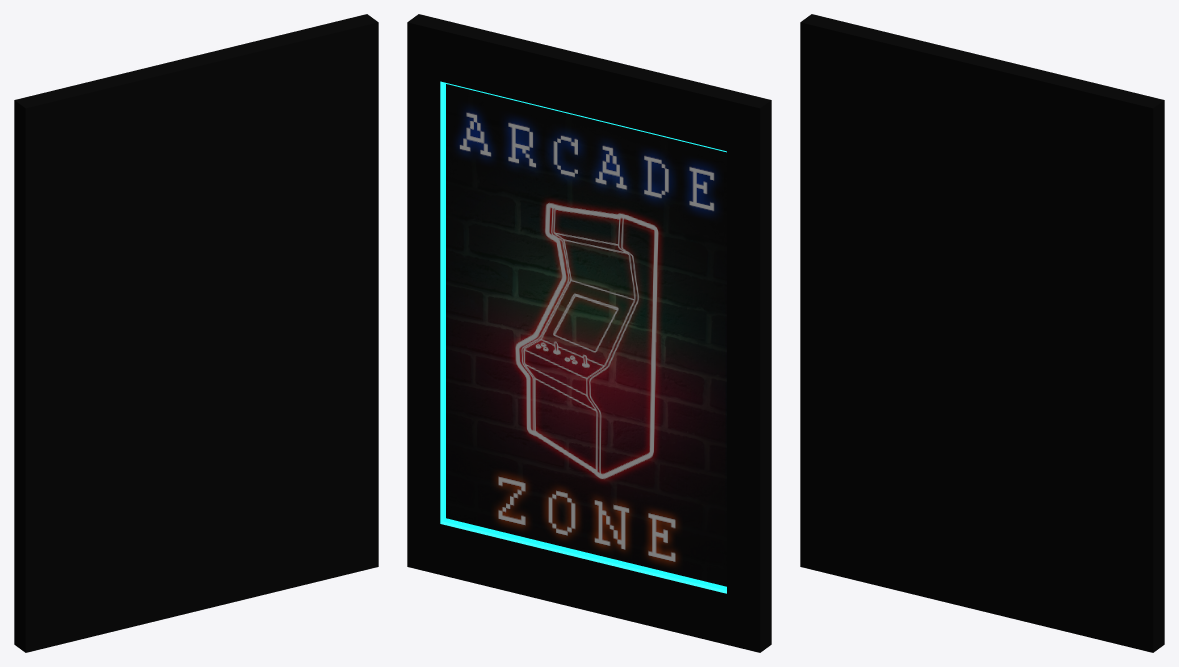
File: poster4e.fbx
3 renders of one model, left to right at view 1: azimuth 30°, elevation 25°; view 2: azimuth 150°, elevation 25°; view 3: azimuth 330°, elevation 25°, orthographic.
Visible parts, largest first — view 1: Plane.003; view 2: Plane.003; view 3: Plane.003.
Part boxes in pixels (left/top/right/bottom): Plane.003: left=14, top=14, right=378, bottom=652; Plane.003: left=407, top=14, right=771, bottom=652; Plane.003: left=800, top=14, right=1164, bottom=652.
Bounding box in the file's own units: 535 × 789 × 30.03.
